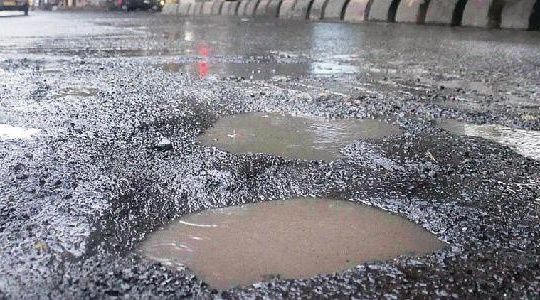pothole: (95, 180, 459, 294), (172, 97, 412, 164)
